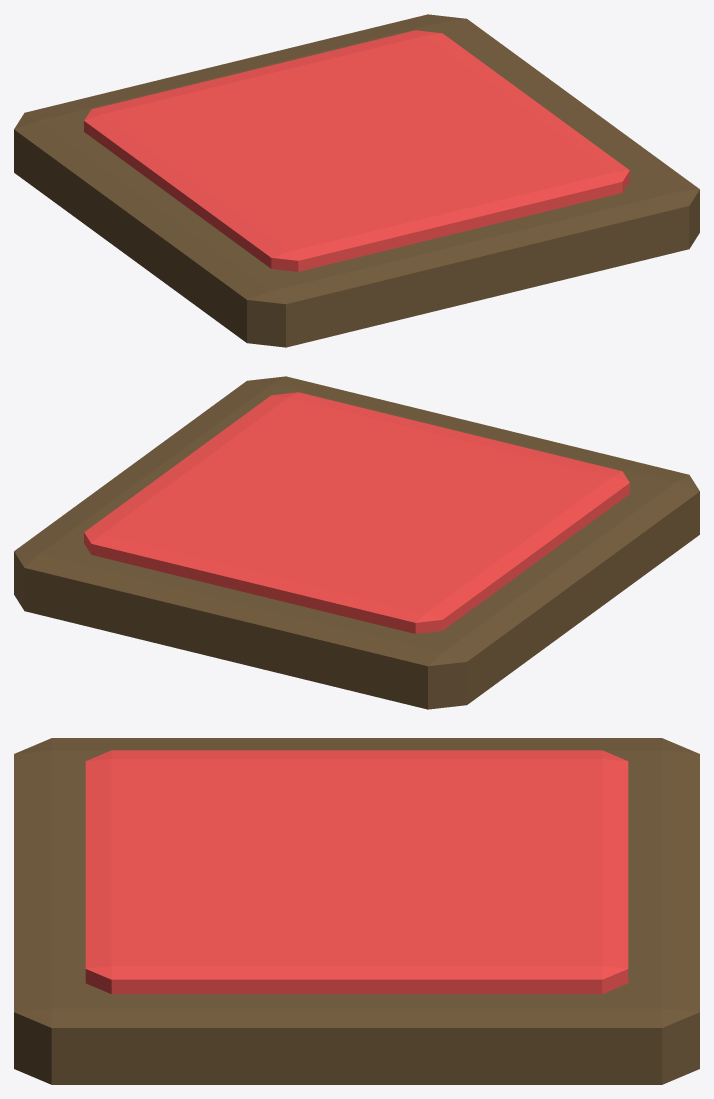
Rendered from PressurePlate.fbx.
3 views of the same model, one above another, from view 1: azimuth 30°, elevation 25°; view 2: azimuth 150°, elevation 25°; view 3: azimuth 270°, elevation 25° (orthographic). The views are drawn at different scales.
Visible parts, largest first — view 1: Cube.001, Cube; view 2: Cube.001, Cube; view 3: Cube.001, Cube.
Boxes of the visible parts, box(x1,y1,x2,y2) form: Cube.001: box(84, 30, 629, 271); Cube: box(14, 14, 699, 347); Cube.001: box(84, 392, 629, 633); Cube: box(14, 376, 699, 709); Cube.001: box(85, 750, 628, 994); Cube: box(14, 738, 699, 1084).
Bounding box in the file's own units: 418 × 54.32 × 418.
